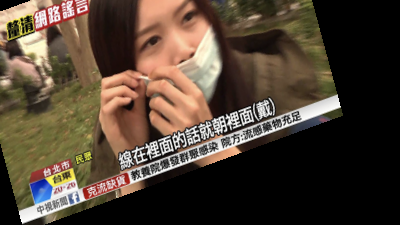mask_weared_incorrect: (83, 1, 241, 113)
